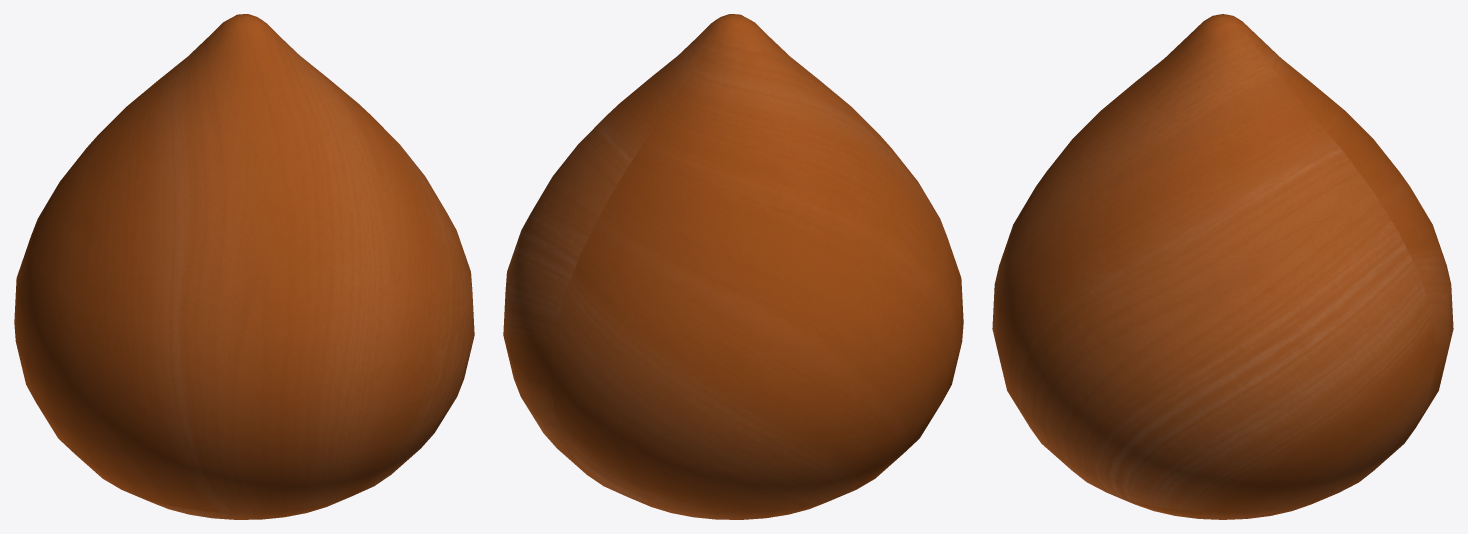
The model's file is bulb.glb.
The picture shows the model from 3 angles, left to right: view 1: azimuth 30°, elevation 25°; view 2: azimuth 150°, elevation 25°; view 3: azimuth 270°, elevation 25°; orthographic projection.
Parts seen in each view (by area): view 1: Bulb; view 2: Bulb; view 3: Bulb.
Boxes of the visible parts, box(x1,y1,x2,y2) form: Bulb: box(14, 14, 474, 519); Bulb: box(503, 14, 963, 519); Bulb: box(992, 14, 1453, 519).
Size of the model in its own units: 16.9 by 19.13 by 16.9.
Materials: 1 (1 with a texture image).
